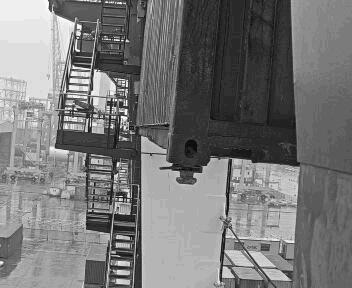twist_lock_1: (81, 252, 130, 286)
